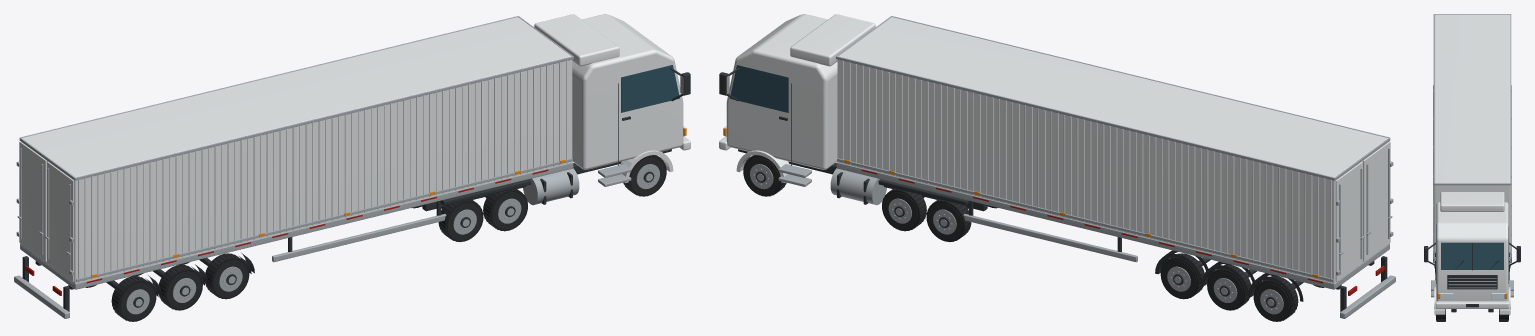
The model's file is SM_SemiTruck.fbx.
3 renders of one model, left to right at view 1: azimuth 30°, elevation 25°; view 2: azimuth 150°, elevation 25°; view 3: azimuth 270°, elevation 25°, orthographic. The views are drawn at different scales.
Parts seen in each view (by area): view 1: SM_SemiTruck; view 2: SM_SemiTruck; view 3: SM_SemiTruck.
Part boxes in pixels (left/top/right/bottom): SM_SemiTruck: left=14, top=14, right=690, bottom=321; SM_SemiTruck: left=719, top=14, right=1395, bottom=321; SM_SemiTruck: left=1424, top=14, right=1520, bottom=321.
Bounding box in the file's own units: 1685 × 324 × 411.
